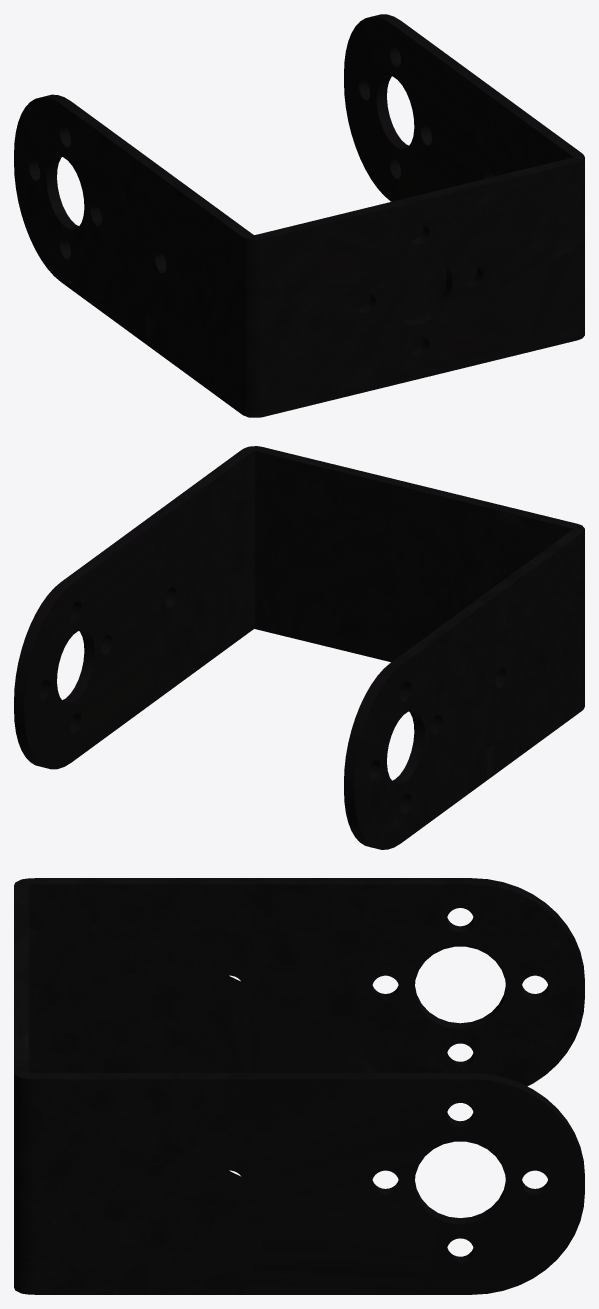
The picture shows the model from 3 angles, top to bottom: view 1: azimuth 30°, elevation 25°; view 2: azimuth 150°, elevation 25°; view 3: azimuth 270°, elevation 25°; orthographic projection. The views are drawn at different scales.
Visible parts, largest first — view 1: polySurface19; view 2: polySurface19; view 3: polySurface19.
Boxes of the visible parts, left/top/right/bottom form: polySurface19: left=14, top=14, right=584, bottom=417; polySurface19: left=14, top=446, right=584, bottom=849; polySurface19: left=14, top=878, right=584, bottom=1294.
Bounding box in the file's own units: 5 × 6 × 2.5.
1 material, 1 textured.
